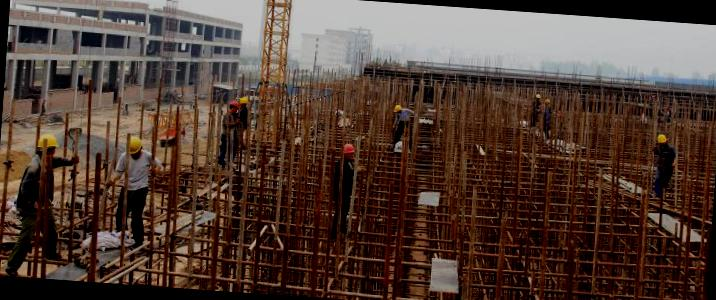person: (0, 131, 77, 279), (103, 136, 164, 250), (326, 140, 362, 239), (646, 134, 680, 202), (214, 100, 239, 168), (388, 102, 414, 152), (234, 95, 254, 153), (540, 96, 556, 138), (528, 93, 543, 130)
